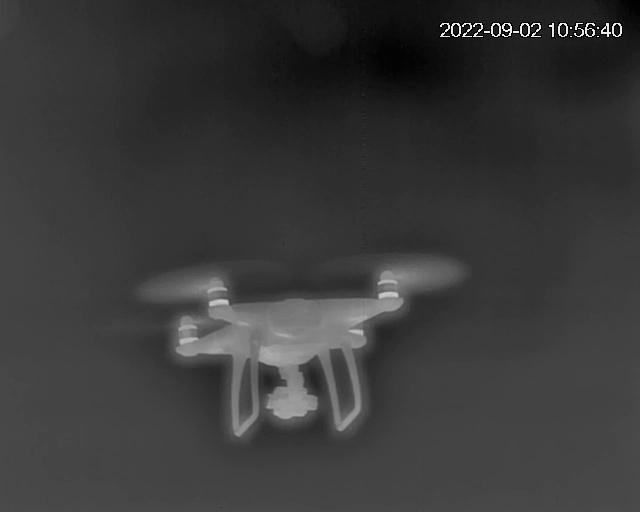DJI-Phantom: (139, 264, 457, 433)
